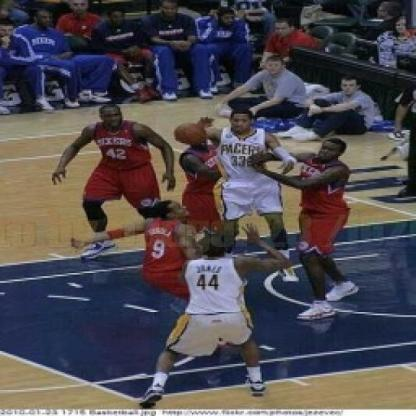basketball: (175, 119, 205, 148)
